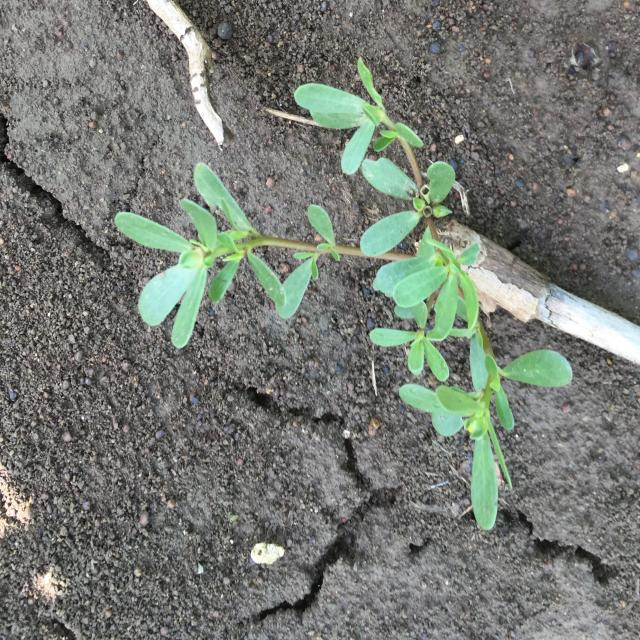Purslane: (113, 58, 572, 530)
